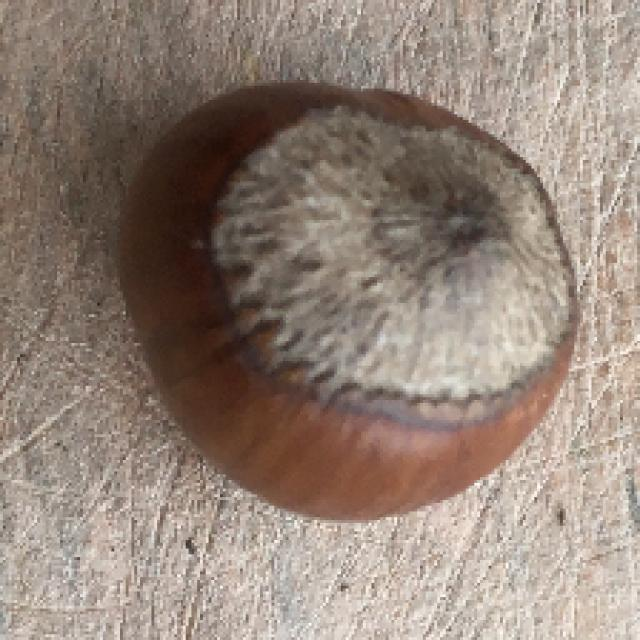qualityHazelnut: (108, 73, 586, 522)
